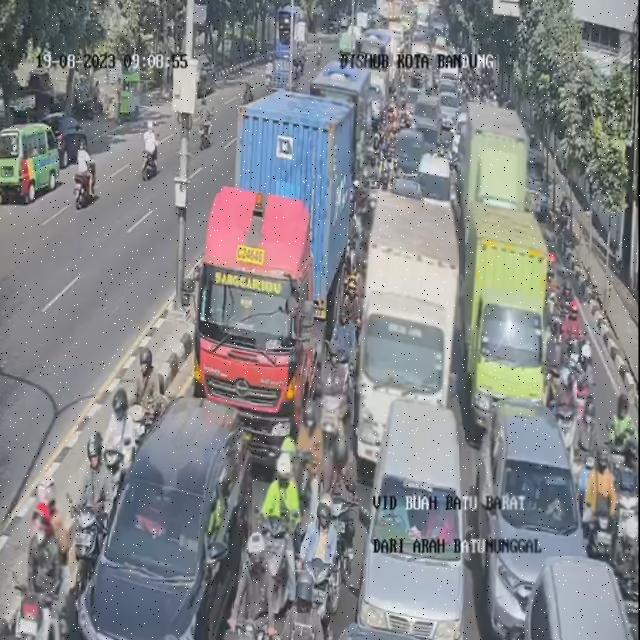bus: (311, 58, 370, 175)
cars: (79, 399, 251, 639), (357, 190, 459, 481), (343, 401, 463, 639), (467, 400, 587, 638), (466, 203, 549, 441), (526, 557, 633, 639), (419, 154, 450, 200), (397, 129, 428, 172), (393, 177, 424, 199)
motorcycle: (252, 436, 300, 608), (21, 489, 69, 640), (296, 492, 344, 640), (74, 439, 117, 594), (314, 436, 360, 568), (317, 337, 353, 480), (233, 529, 276, 640), (609, 436, 638, 583), (583, 446, 618, 566), (544, 346, 577, 467), (98, 387, 135, 490), (290, 398, 318, 522), (133, 340, 165, 433), (574, 400, 602, 500), (325, 304, 355, 390), (608, 384, 634, 470), (572, 348, 596, 423), (337, 271, 361, 345), (564, 302, 586, 375), (548, 314, 567, 383), (544, 262, 560, 328), (560, 279, 576, 338)
truck: (194, 184, 309, 457), (462, 103, 529, 228)
